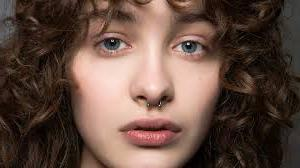face: (66, 1, 220, 168)
